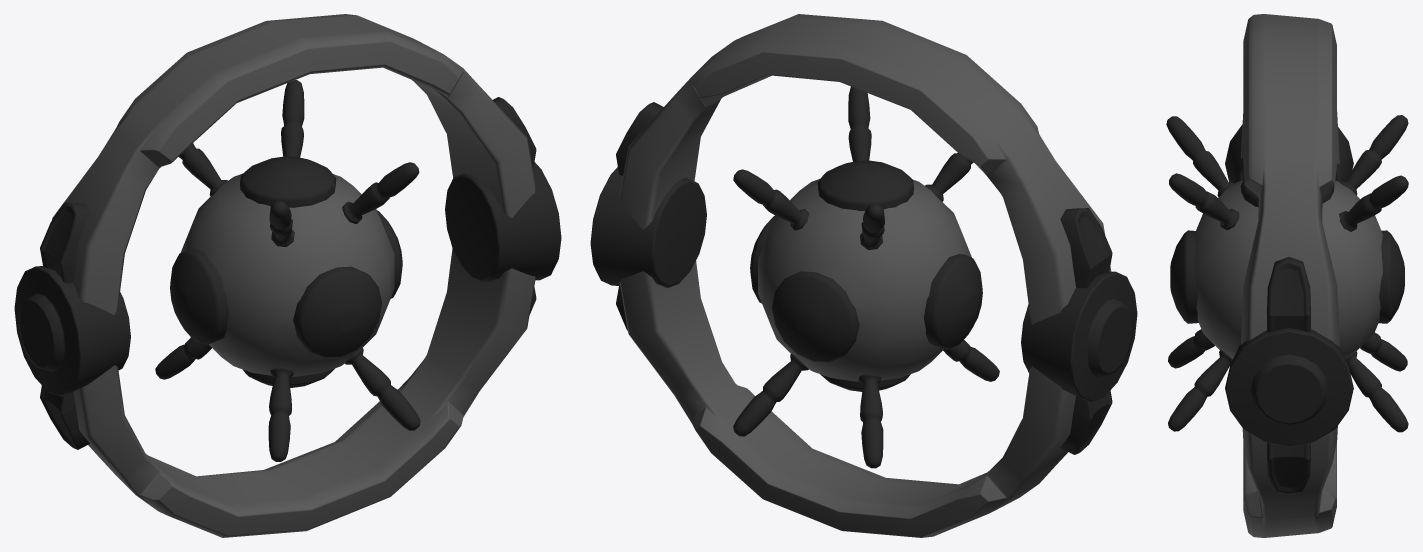
Rendered from _Signal_beacon.fbx.
The picture shows the model from 3 angles, left to right: view 1: azimuth 30°, elevation 25°; view 2: azimuth 150°, elevation 25°; view 3: azimuth 270°, elevation 25°; orthographic projection. The views are drawn at different scales.
Parts seen in each view (by area): view 1: Signal_beacon; view 2: Signal_beacon; view 3: Signal_beacon.
Boxes of the visible parts, x1,y1,x2,y2 form: Signal_beacon: (14, 14, 561, 537); Signal_beacon: (590, 14, 1137, 537); Signal_beacon: (1166, 14, 1408, 537).
Size of the model in its own units: 265 by 246 by 115.
1 material, 1 textured.
